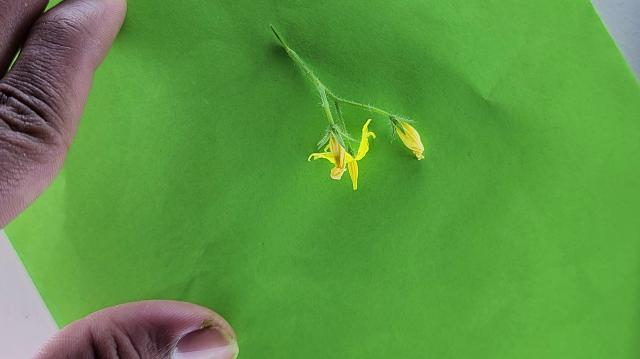Anthesis: (307, 119, 376, 189), (388, 114, 427, 161)
